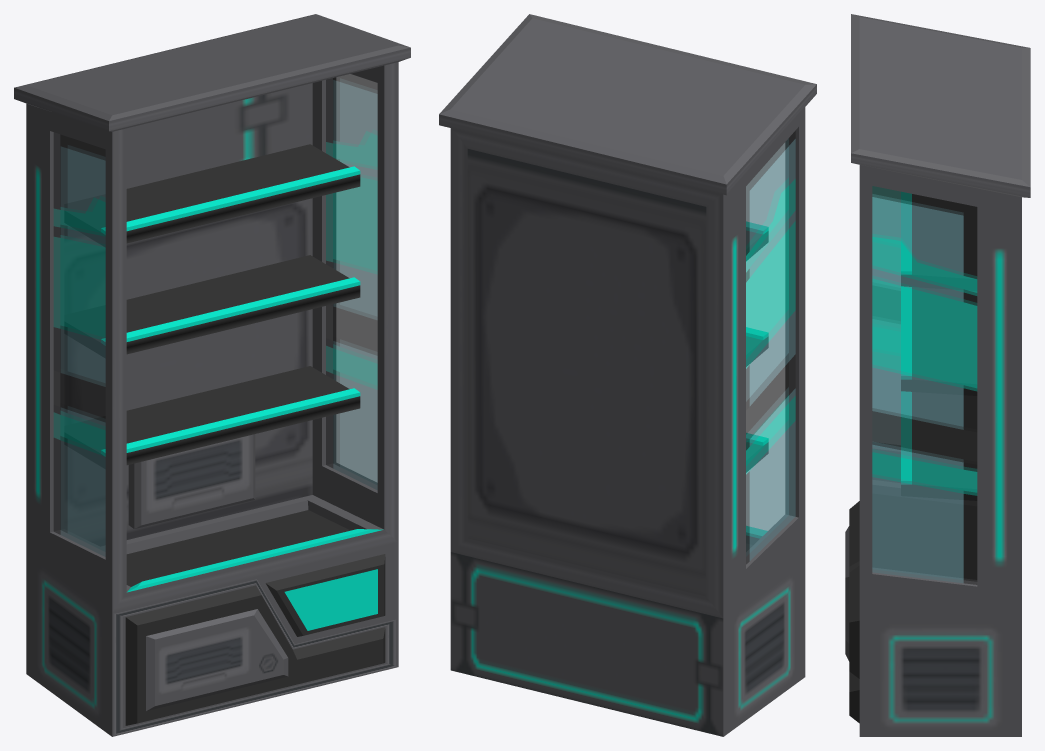
The model's file is SM_Prop_Food_Shelf_02.fbx.
3 renders of one model, left to right at view 1: azimuth 30°, elevation 25°; view 2: azimuth 150°, elevation 25°; view 3: azimuth 270°, elevation 25°, orthographic. The views are drawn at different scales.
Visible parts, largest first — view 1: SM_Prop_Food_Shelf_02; view 2: SM_Prop_Food_Shelf_02; view 3: SM_Prop_Food_Shelf_02.
Part boxes in pixels (bbox=[...]): SM_Prop_Food_Shelf_02: bbox=[14, 14, 410, 736]; SM_Prop_Food_Shelf_02: bbox=[439, 14, 816, 736]; SM_Prop_Food_Shelf_02: bbox=[845, 14, 1030, 736].
Bounding box in the file's own units: 128 × 252 × 71.99.
